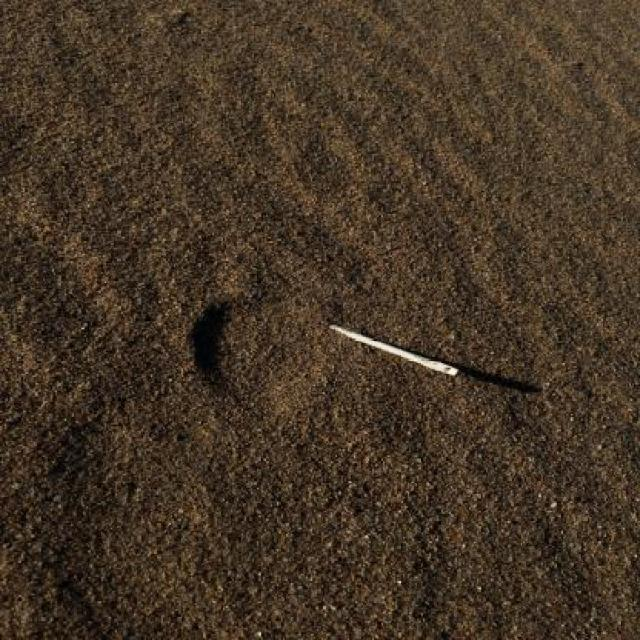plastic: (328, 324, 460, 376)
